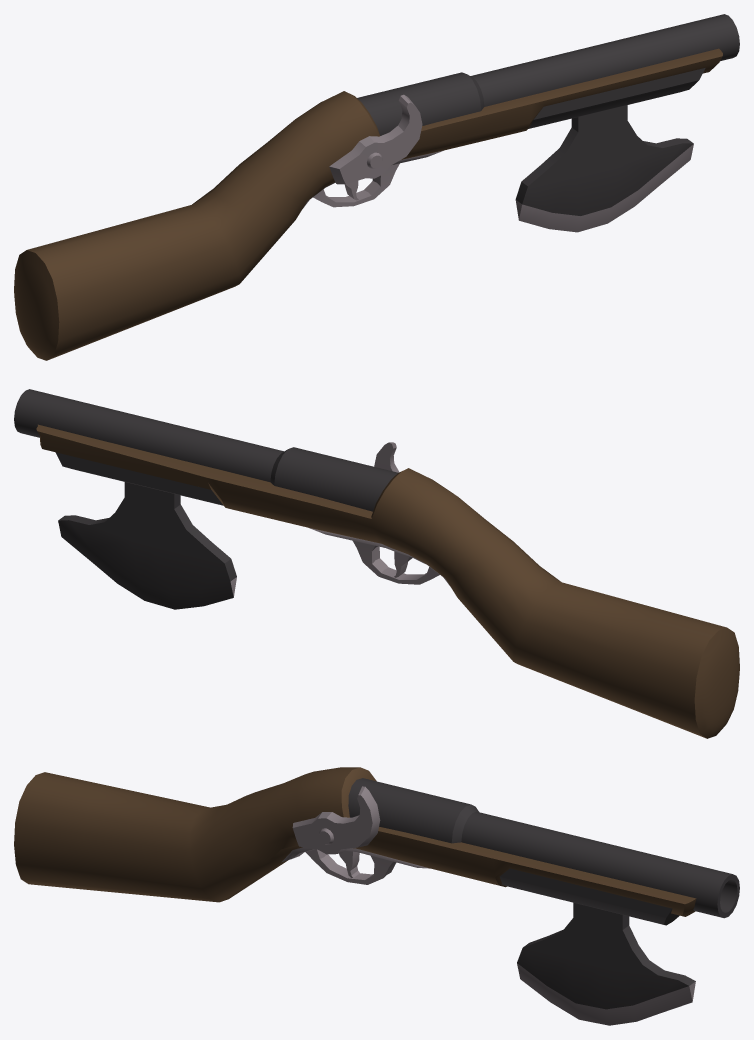
Rendered from Axe Rifle.glb.
3 renders of one model, top to bottom at view 1: azimuth 30°, elevation 25°; view 2: azimuth 150°, elevation 25°; view 3: azimuth 330°, elevation 25°, orthographic.
Parts seen in each view (by area): view 1: Weapon_AxeRifle; view 2: Weapon_AxeRifle; view 3: Weapon_AxeRifle.
Boxes of the visible parts, x1,y1,x2,y2 form: Weapon_AxeRifle: (14, 14, 739, 360); Weapon_AxeRifle: (14, 389, 739, 738); Weapon_AxeRifle: (14, 767, 739, 1025).
Bounding box in the file's own units: 2.32 × 0.6328 × 0.2822.
Materials: 1 (1 with a texture image).
